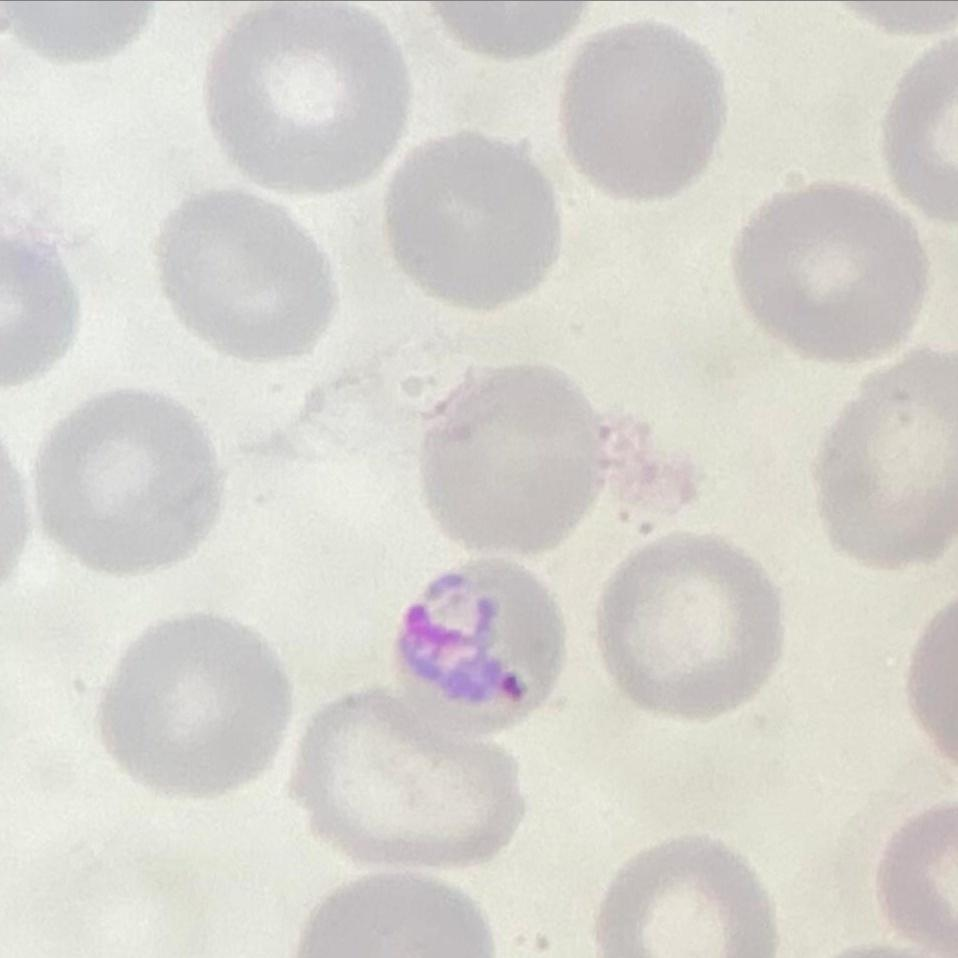Infected: (395, 562, 563, 735)
Uninfected: (300, 685, 534, 868), (730, 180, 930, 367), (208, 14, 404, 196), (103, 613, 291, 799), (422, 362, 604, 553), (37, 385, 222, 571), (602, 537, 783, 719), (810, 347, 954, 568), (385, 134, 556, 308), (158, 190, 330, 359), (560, 21, 720, 198), (602, 835, 783, 958), (305, 875, 496, 958)
